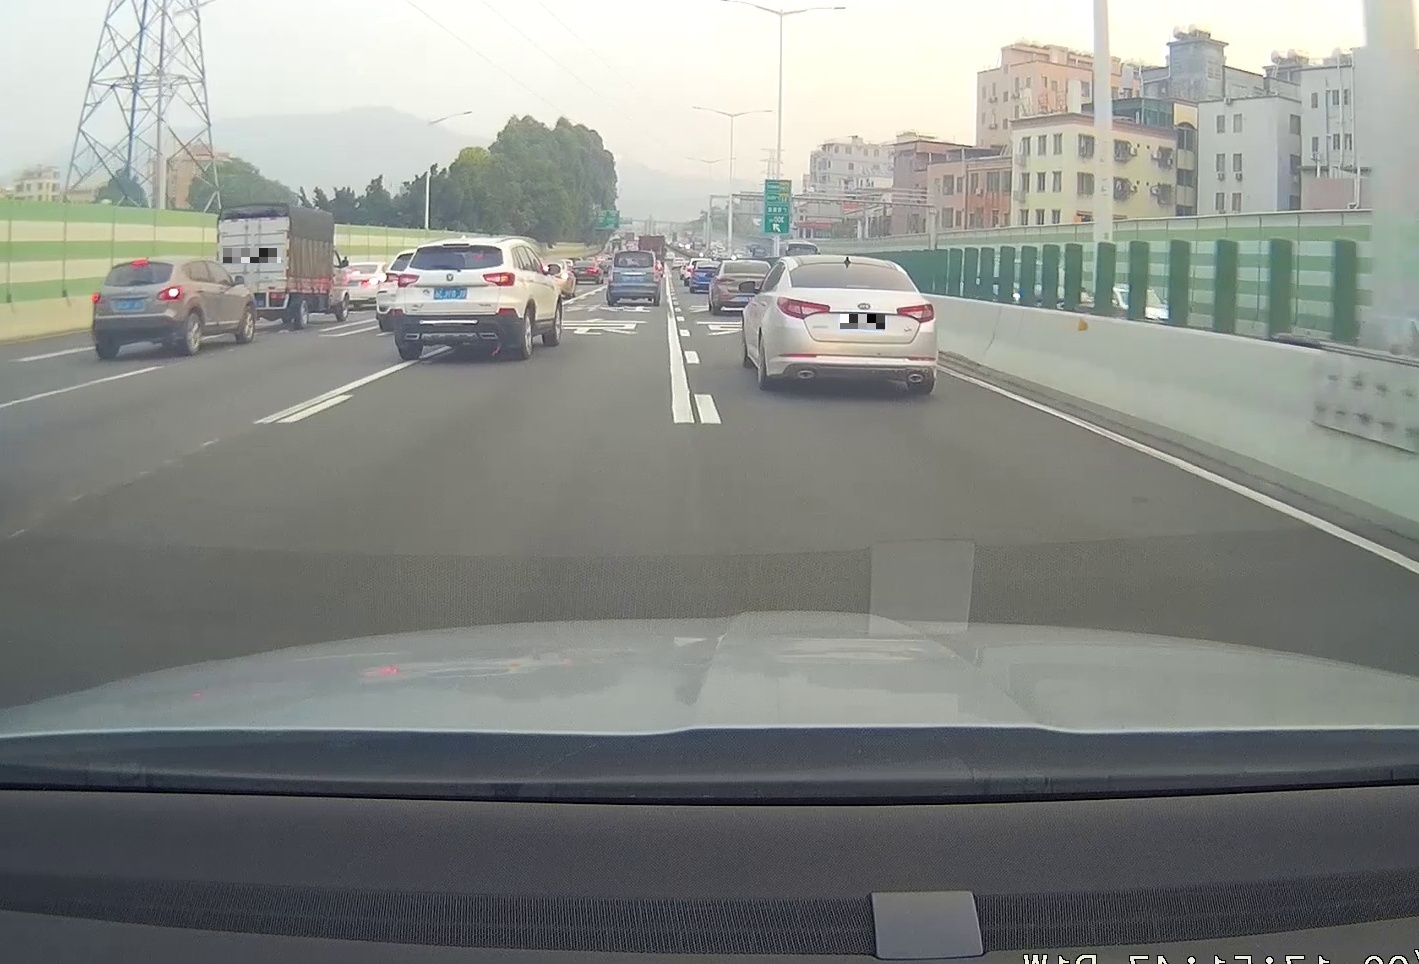L_light: (776, 296, 831, 318), (397, 274, 420, 287), (93, 293, 105, 303), (608, 267, 614, 280)
R_light: (896, 303, 934, 324), (482, 272, 516, 286), (157, 286, 181, 300), (653, 266, 659, 281)
T_light: (443, 243, 470, 249), (845, 284, 871, 289), (133, 260, 148, 265), (629, 251, 638, 253)
day-no: (770, 254, 937, 395), (607, 249, 659, 306)
day-right: (394, 238, 523, 360), (90, 258, 185, 359)
plate_1: (223, 249, 281, 263)
plate_2: (840, 314, 885, 329)
